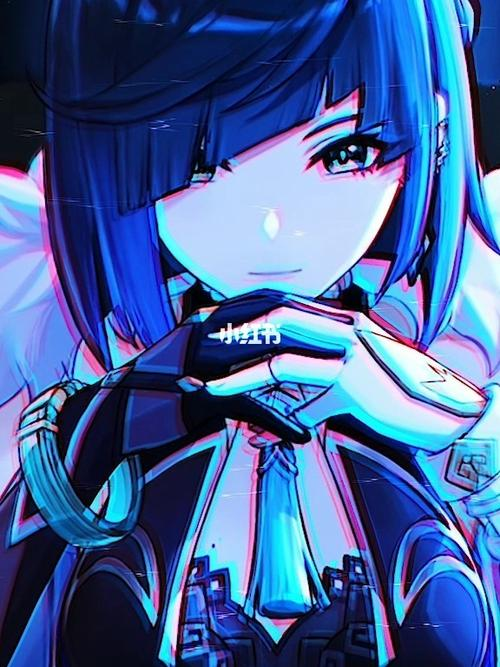夜兰: (3, 2, 500, 667)
